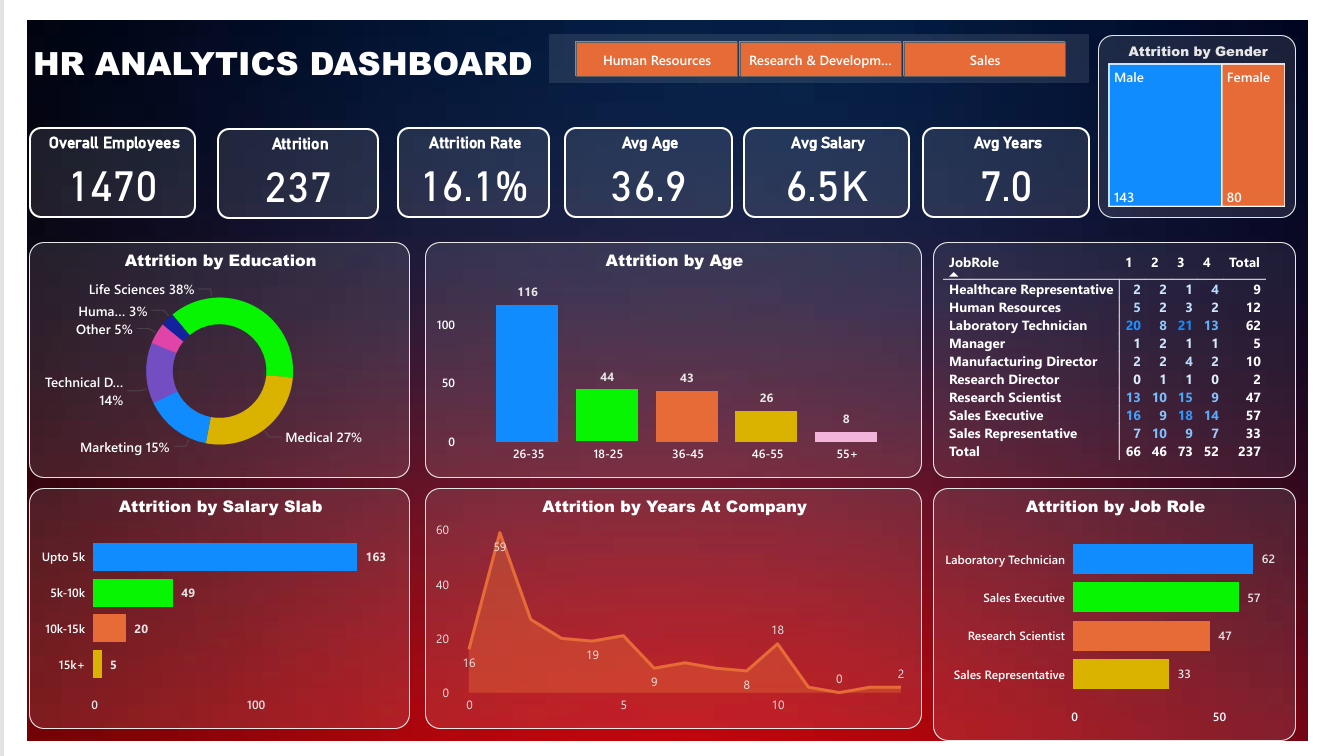

The page's visual inventory and layout, read from the dashboard file:
{"tool":"powerbi","page":{"name":"Dashboard","canvas":[1280,720],"ordinal":0},"visuals":[{"type":"card","title":"Overall Employees","fields":{"Values":["CountNonNull(HR_Analytics.EmpID)"]},"box":[1.2,106.2,166.5,90.5],"z":0},{"type":"card","title":"Attrition","fields":{"Values":["Sum(HR_Analytics.AttritionCount)"]},"box":[189.4,107.4,161.7,90.5],"z":1000},{"type":"card","title":"Attrition Rate","fields":{"Values":["HR_Analytics.AttritionRate"]},"box":[369.2,106.2,153.2,90.5],"z":2000},{"type":"card","title":"Avg Age","fields":{"Values":["Avg(HR_Analytics.Age)"]},"box":[535.7,106.2,168.9,90.5],"z":3000},{"type":"card","title":"Avg Years","fields":{"Values":["Avg(HR_Analytics.YearsAtCompany)"]},"box":[894,106.2,167.7,90.5],"z":4000},{"type":"card","title":"Avg Salary","fields":{"Values":["Avg(HR_Analytics.MonthlyIncome)"]},"box":[715.4,106.2,166.5,90.5],"z":5000},{"type":"donutChart","title":"Attrition by Education","fields":{"Category":["HR_Analytics.EducationField"],"Y":["Sum(HR_Analytics.AttritionCount)"]},"box":[1.2,220.8,381.2,236.5],"z":6000},{"type":"columnChart","title":"Attrition by Age","fields":{"Category":["HR_Analytics.AgeGroup"],"Y":["Sum(HR_Analytics.AttritionCount)"]},"box":[396.9,220.8,497.1,236.5],"z":7000},{"type":"pivotTable","fields":{"Rows":["HR_Analytics.JobRole"],"Columns":["HR_Analytics.JobSatisfaction"],"Values":["Sum(HR_Analytics.AttritionCount)"]},"box":[904.8,220.8,363.1,236.5],"z":8000},{"type":"barChart","title":"Attrition by Salary Slab","fields":{"Category":["HR_Analytics.SalarySlab"],"Y":["Sum(HR_Analytics.AttritionCount)"]},"box":[1.2,466.9,381.2,241.3],"z":9000},{"type":"barChart","title":"Attrition by Job Role","fields":{"Y":["Sum(HR_Analytics.AttritionCount)"],"Category":["HR_Analytics.JobRole"]},"box":[904.8,466.9,363.1,253.4],"z":10000},{"type":"areaChart","title":"Attrition by Years At Company","fields":{"Category":["HR_Analytics.YearsAtCompany"],"Y":["Sum(HR_Analytics.AttritionCount)"]},"box":[396.9,466.9,497.1,241.3],"z":11000},{"type":"treemap","title":"Attrition by Gender","fields":{"Group":["HR_Analytics.Gender"],"Values":["Sum(HR_Analytics.AttritionCount)"]},"box":[1070.1,14.5,197.9,182.2],"z":12000},{"type":"slicer","fields":{"Values":["HR_Analytics.Department"]},"box":[522.4,14.5,539.3,48.3],"z":13000},{"type":"textbox","box":[0,14.5,579.1,71.2],"z":14000}]}

Visuals, with their boxes in screenshot pixels (x1, y1, x2, y2), scaled from the page's 1280x720 canvas onto the 1327x756 screenshot:
"Overall Employees" card: [left=1, top=112, right=174, bottom=207]
"Attrition" card: [left=196, top=113, right=364, bottom=208]
"Attrition Rate" card: [left=383, top=112, right=542, bottom=207]
"Avg Age" card: [left=555, top=112, right=730, bottom=207]
"Avg Years" card: [left=927, top=112, right=1101, bottom=207]
"Avg Salary" card: [left=742, top=112, right=914, bottom=207]
"Attrition by Education" donutChart: [left=1, top=232, right=396, bottom=480]
"Attrition by Age" columnChart: [left=411, top=232, right=927, bottom=480]
pivotTable - HR_Analytics.JobRole x HR_Analytics.JobSatisfaction: [left=938, top=232, right=1314, bottom=480]
"Attrition by Salary Slab" barChart: [left=1, top=490, right=396, bottom=744]
"Attrition by Job Role" barChart: [left=938, top=490, right=1314, bottom=755]
"Attrition by Years At Company" areaChart: [left=411, top=490, right=927, bottom=744]
"Attrition by Gender" treemap: [left=1109, top=15, right=1315, bottom=207]
slicer - HR_Analytics.Department: [left=542, top=15, right=1101, bottom=66]
textbox: [left=0, top=15, right=600, bottom=90]
